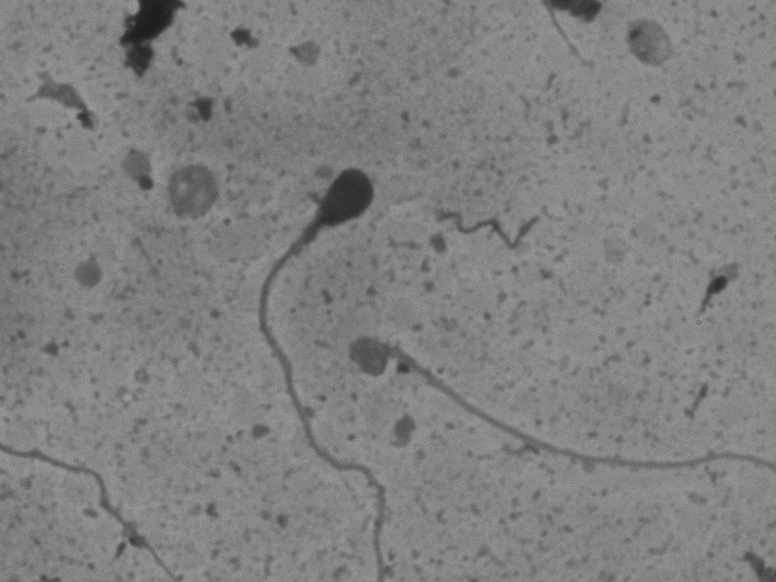Abnormal: (238, 157, 399, 567), (333, 319, 643, 449)
